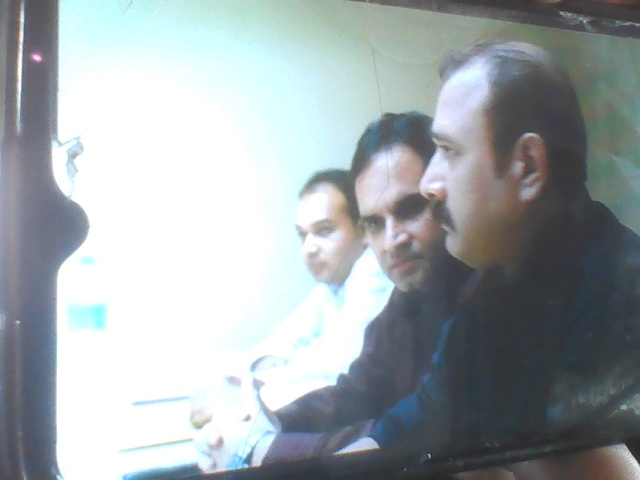fake: (372, 81, 512, 279)
